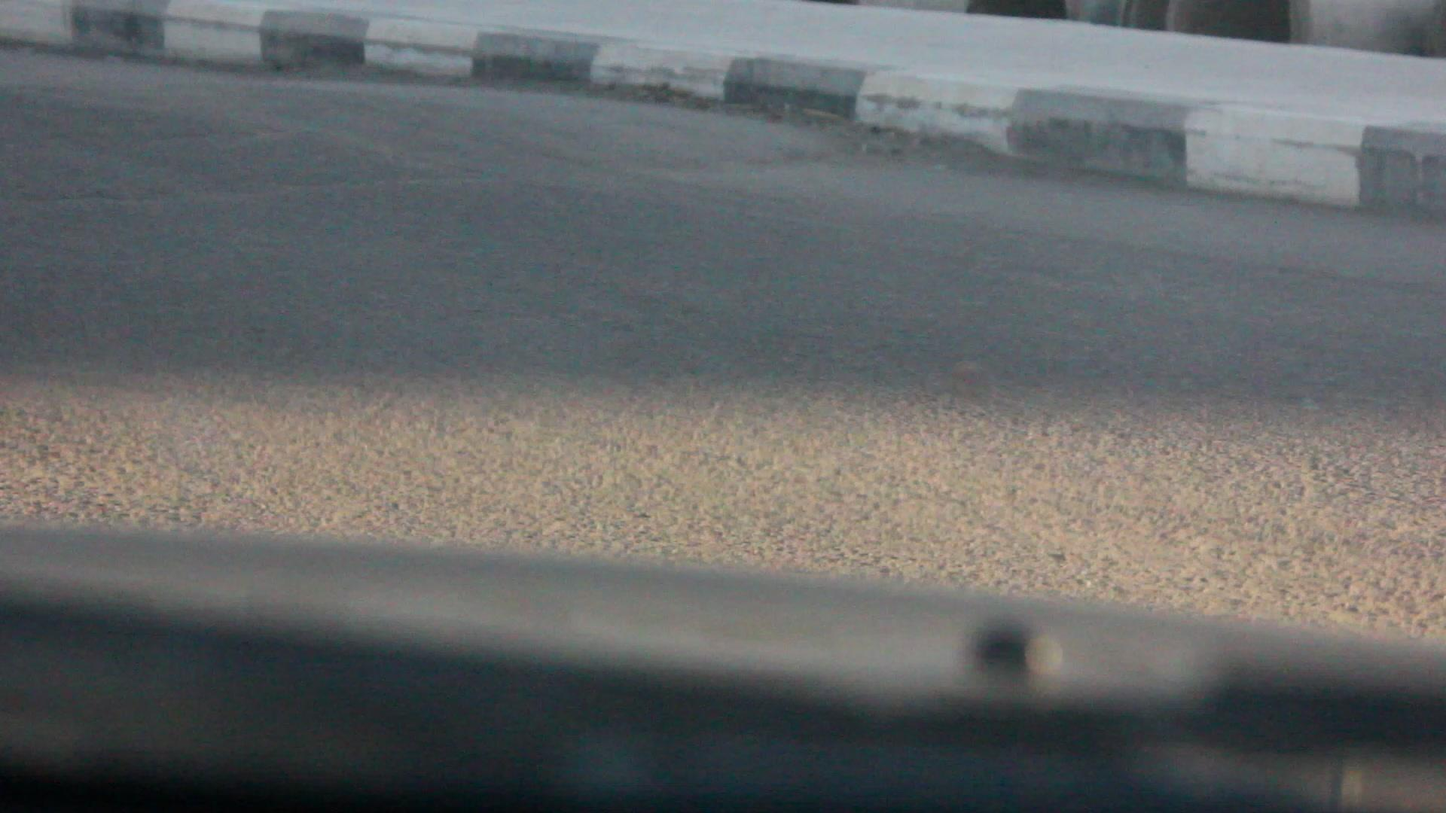Bump: (0, 68, 951, 199)
